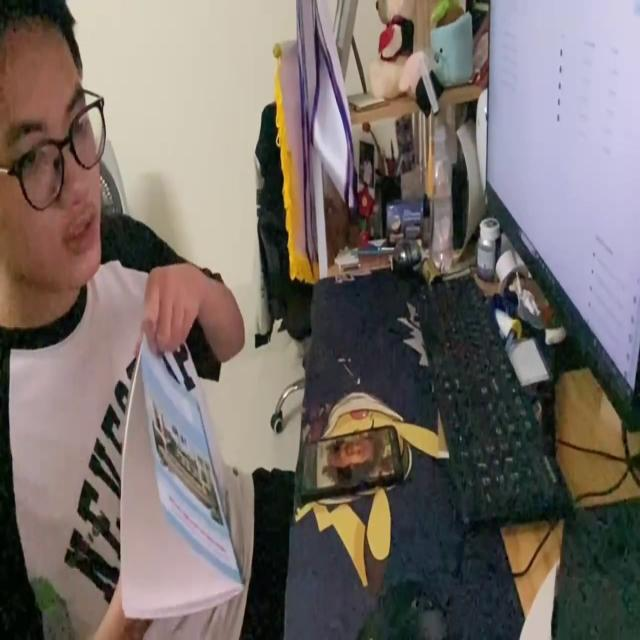book: (117, 327, 248, 622)
laptop: (482, 0, 640, 432)
phone: (299, 418, 406, 500)
student: (0, 0, 293, 640)
